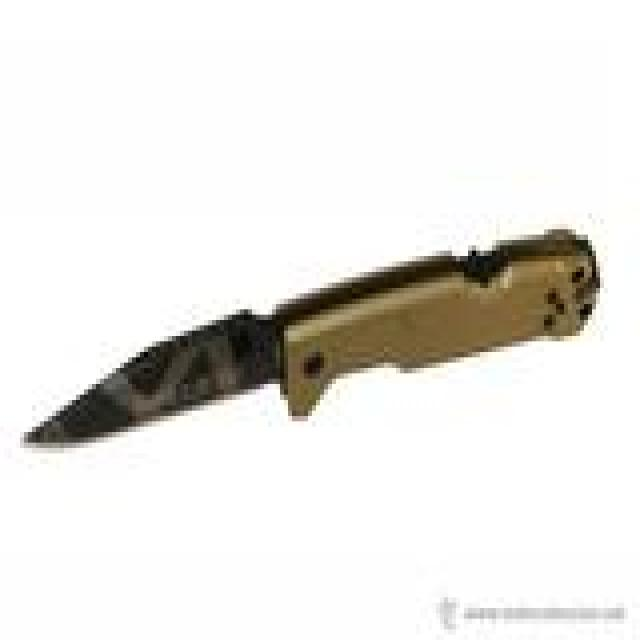Knife: (5, 218, 606, 472)
